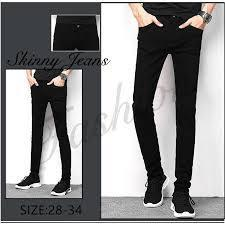pants: (131, 11, 203, 182), (29, 76, 73, 181)
